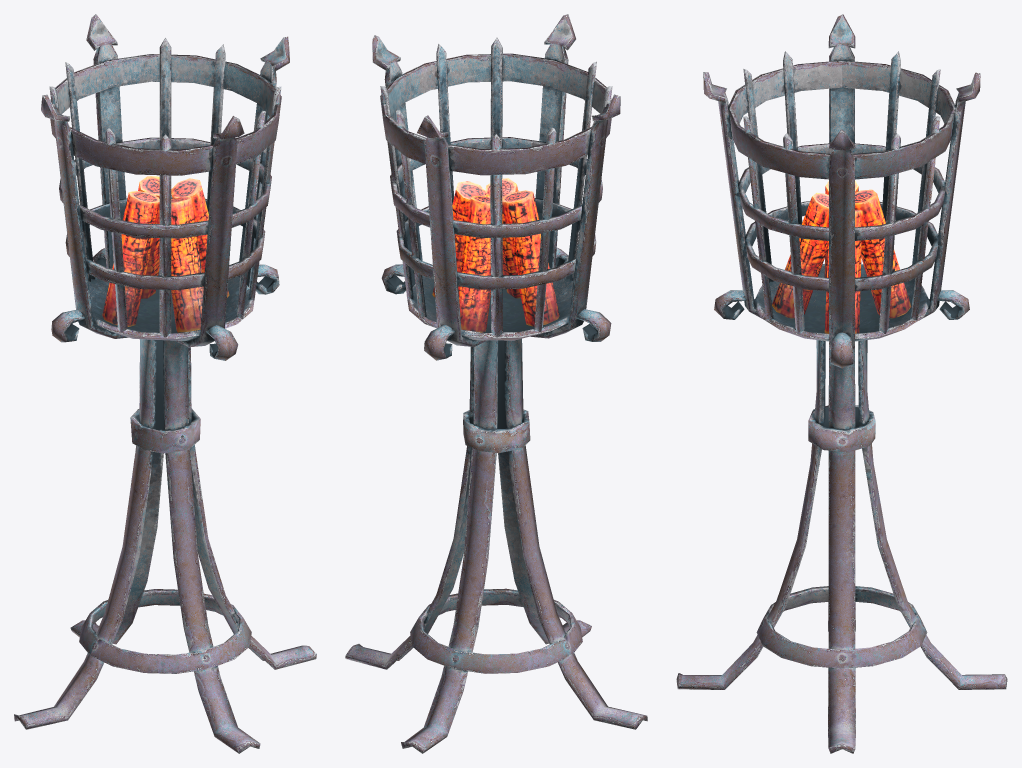
Rendered from Brazier.fbx.
3 views of the same model, side by side, from view 1: azimuth 30°, elevation 25°; view 2: azimuth 150°, elevation 25°; view 3: azimuth 270°, elevation 25° (orthographic). The views are drawn at different scales.
Visible parts, largest first — view 1: Brazier; view 2: Brazier; view 3: Brazier.
Part boxes in pixels (x1=…): Brazier: x1=14, y1=14, x2=316, y2=753; Brazier: x1=345, y1=14, x2=647, y2=753; Brazier: x1=676, y1=14, x2=1007, y2=753.
Bounding box in the file's own units: 0.8493 × 1.73 × 0.8493.
